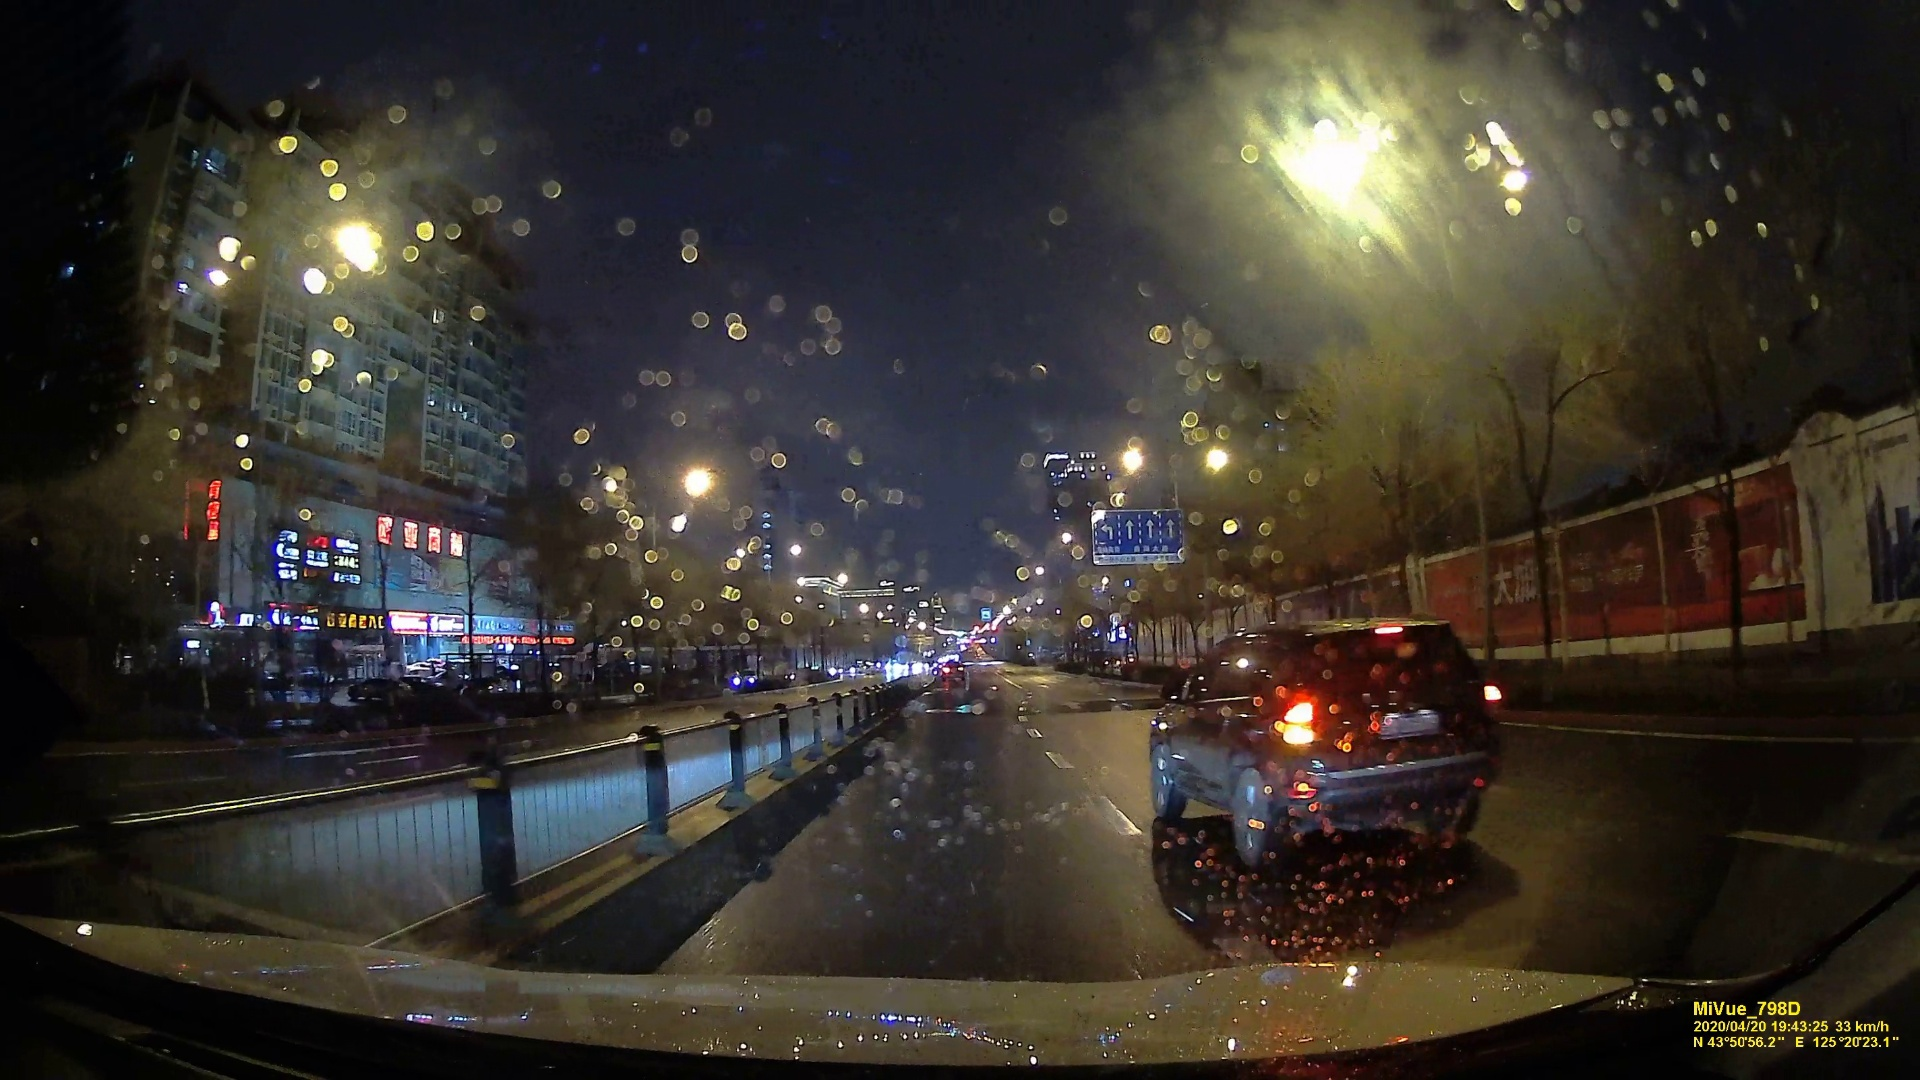traffic_sign: (1087, 510, 1182, 566)
vehicle: (1150, 622, 1495, 847), (942, 659, 965, 676)
